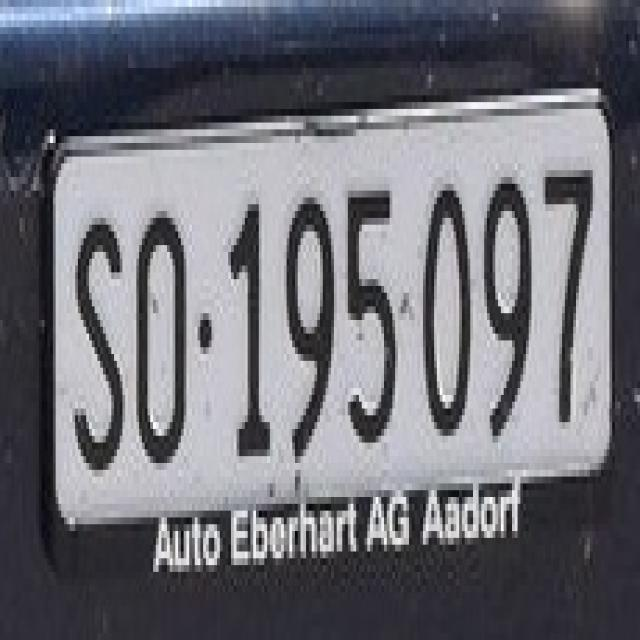0: (125, 191, 195, 464), (412, 157, 470, 436)
1: (217, 184, 276, 456)
5: (336, 164, 401, 442)
7: (537, 150, 596, 422)
9: (473, 156, 532, 430), (278, 176, 337, 450)
S: (61, 190, 131, 470)
